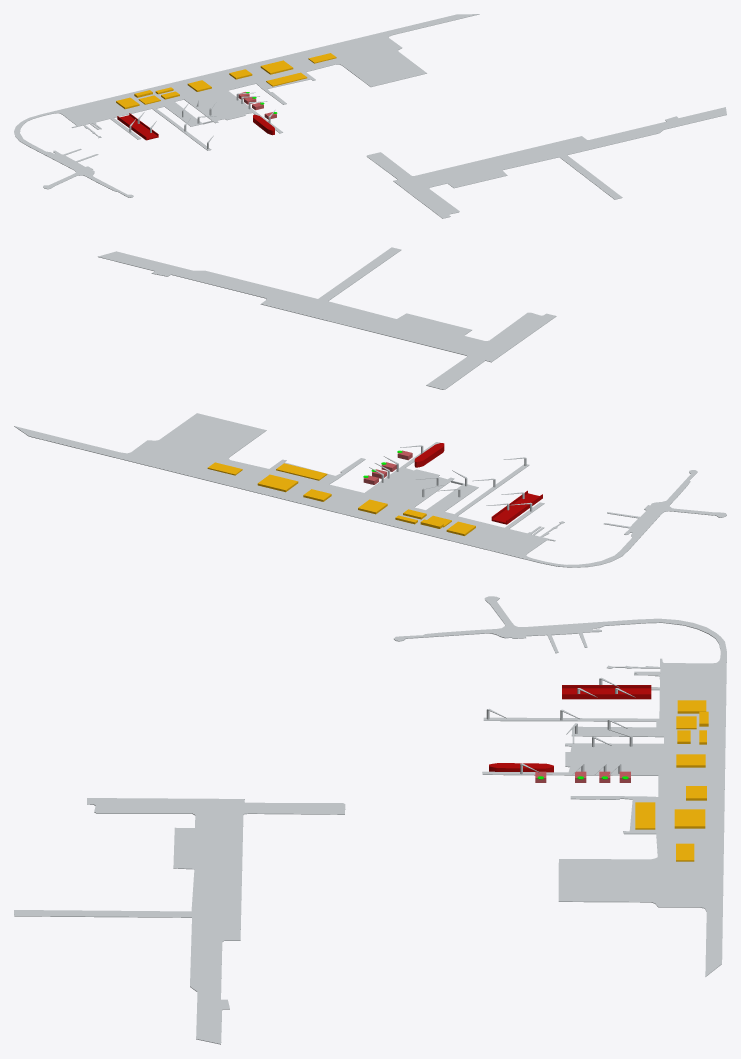
The model's file is QATAR_SHIPYARD_0_0_COORD_new.glb.
The picture shows the model from 3 angles, top to bottom: view 1: azimuth 30°, elevation 25°; view 2: azimuth 150°, elevation 25°; view 3: azimuth 270°, elevation 25°; orthographic projection. The views are drawn at different scales.
Parts seen in each view (by area): view 1: 3D Solid (×2); view 2: 3D Solid (×3); view 3: 3D Solid (×3).
Part boxes in pixels (x1,y1,x2,y2): 3D Solid (×2): (14,14,726,218); 3D Solid (×3): (14,247,726,567); 3D Solid (×3): (14,596,726,1044).
Size of the model in its own units: 4788 by 67.2 by 3221.
